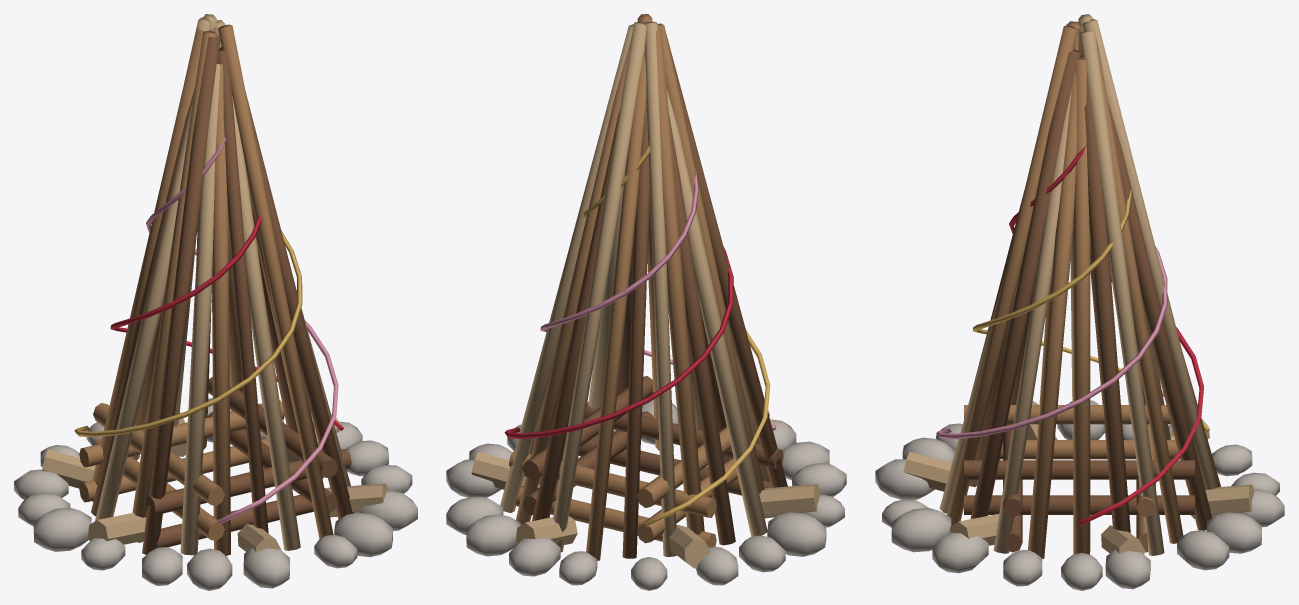
The model's file is calanmai_pyre.glb.
3 views of the same model, side by side, from view 1: azimuth 30°, elevation 25°; view 2: azimuth 150°, elevation 25°; view 3: azimuth 270°, elevation 25° (orthographic).
Visible parts, largest first — view 1: calanmai_pyre; view 2: calanmai_pyre; view 3: calanmai_pyre.
Part boxes in pixels (bbox=[...]): calanmai_pyre: bbox=[14, 14, 417, 590]; calanmai_pyre: bbox=[446, 14, 846, 590]; calanmai_pyre: bbox=[875, 14, 1284, 590].
Size of what is drawn, in the model's own units: 4.2 by 5.6 by 4.2.
